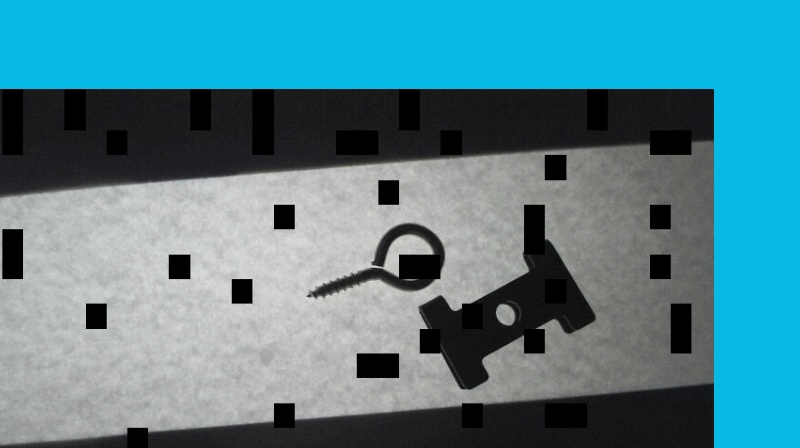O001: (305, 219, 446, 297)
O002: (419, 236, 597, 387)
